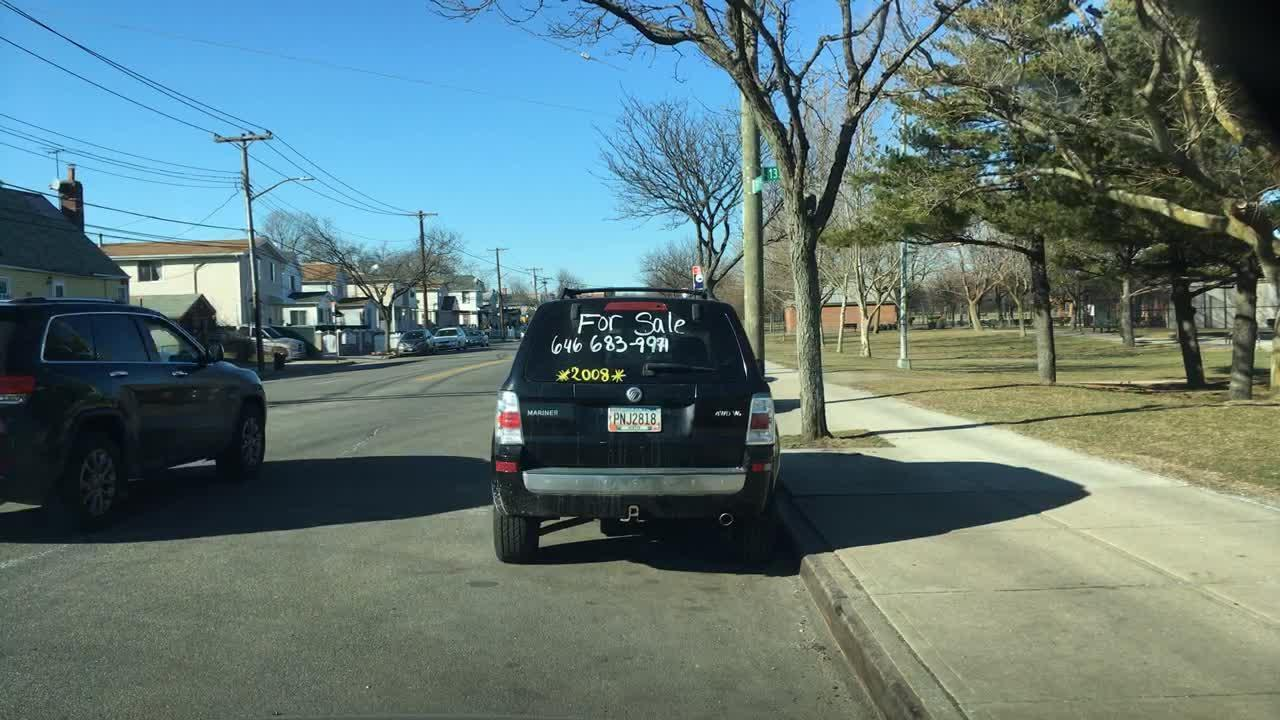Mercury: (624, 385, 645, 404)
